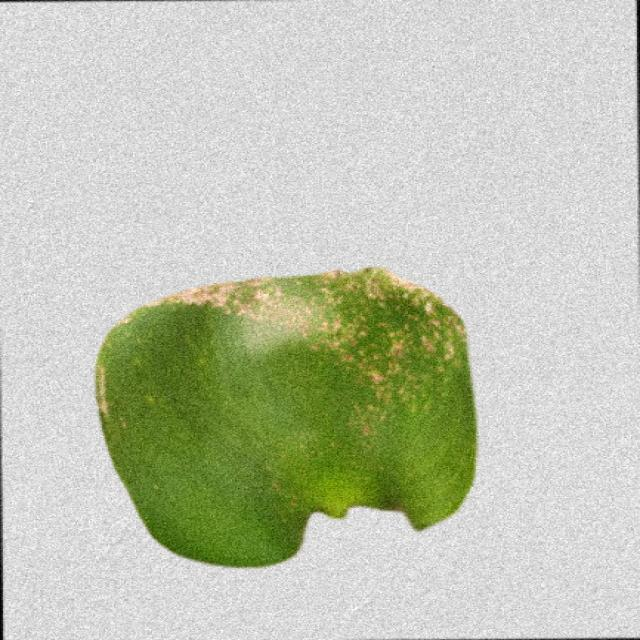daun berpenyakit bercak: (97, 268, 476, 566)
